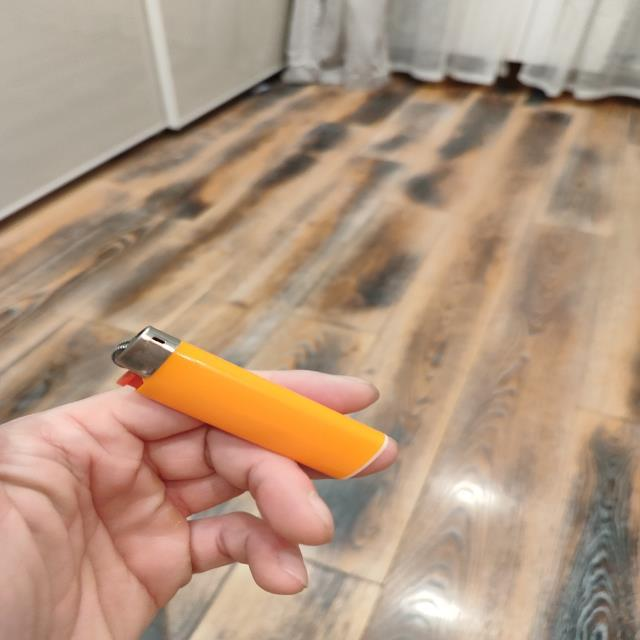lighter: (112, 326, 388, 478)
